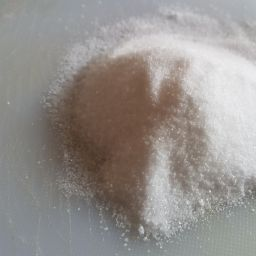Sugar: (41, 9, 256, 240), (85, 56, 244, 179), (101, 163, 218, 247)
